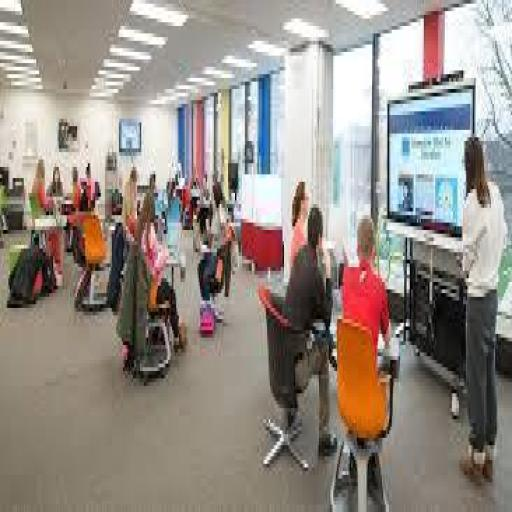chair: (329, 304, 401, 512), (253, 280, 308, 477)
